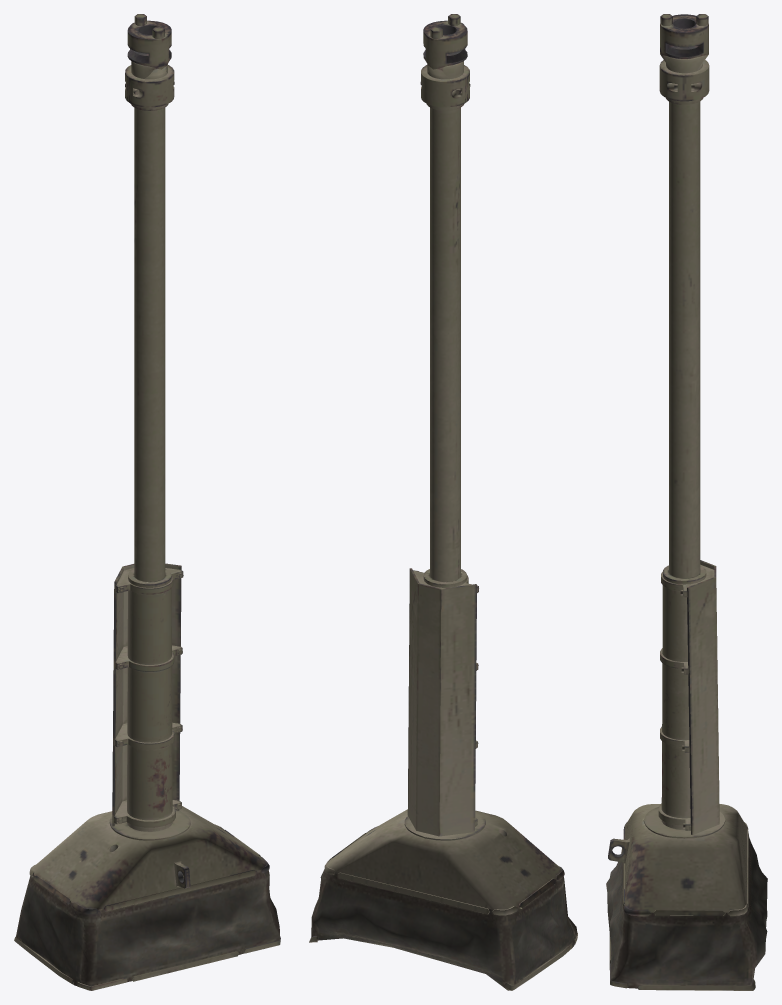
Rendered from Gun_07.glb.
3 views of the same model, side by side, from view 1: azimuth 30°, elevation 25°; view 2: azimuth 150°, elevation 25°; view 3: azimuth 270°, elevation 25° (orthographic).
Parts seen in each view (by area): view 1: set_0_group_0; view 2: set_0_group_0; view 3: set_0_group_0.
Boxes of the visible parts, x1,y1,x2,y2 form: set_0_group_0: (14, 14, 280, 990); set_0_group_0: (309, 14, 577, 990); set_0_group_0: (606, 14, 767, 990).
Size of the model in its own units: 1.15 by 4.75 by 0.7526.
1 material, 1 textured.
